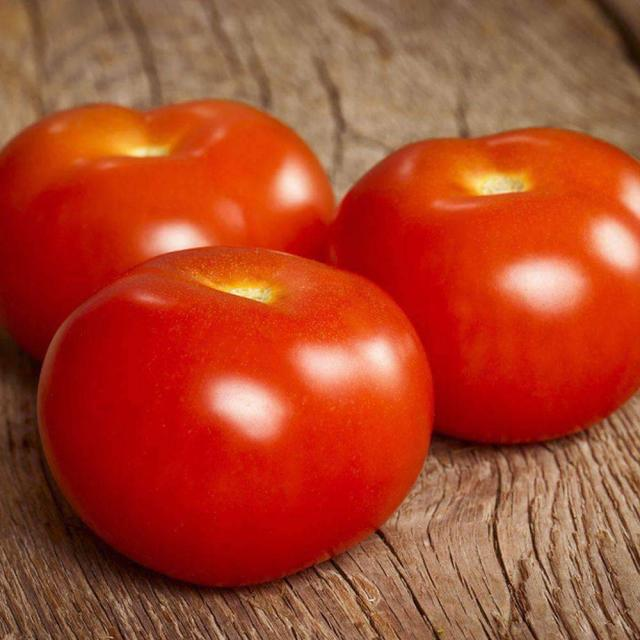Tomato: (39, 248, 432, 586), (331, 128, 640, 443), (0, 100, 335, 359)
